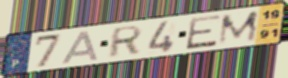4: (146, 19, 176, 55)
7: (33, 34, 63, 69)
A: (60, 29, 101, 65)
E: (184, 13, 223, 51)
M: (216, 9, 261, 47)
R: (106, 24, 145, 59)
